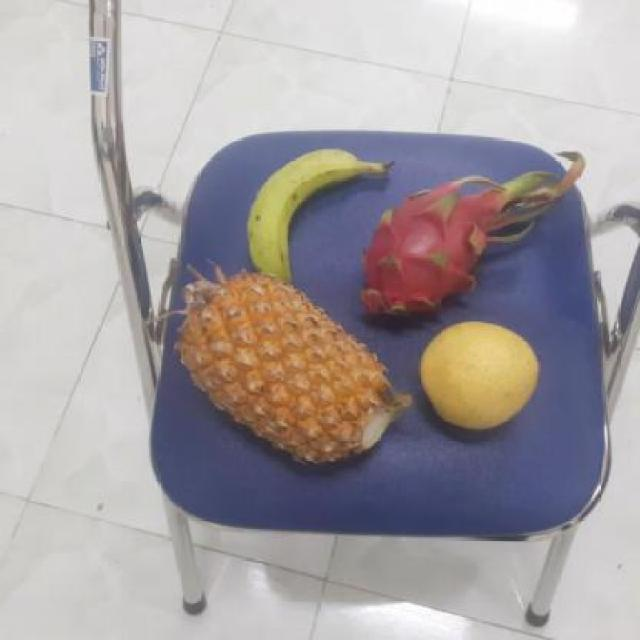banana: (239, 146, 379, 282)
dragon fruit: (355, 181, 507, 324)
pear: (412, 325, 543, 436)
pineapple: (174, 268, 405, 464)
